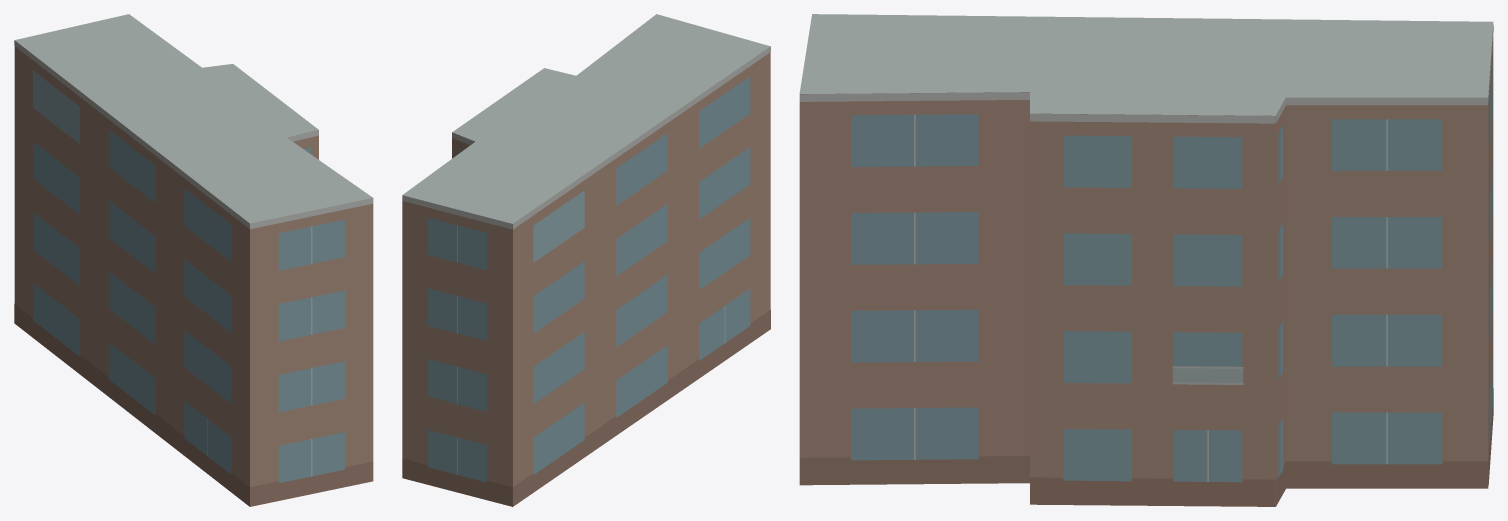
Rendered from survey-upis-33011934.glb.
The picture shows the model from 3 angles, left to right: view 1: azimuth 30°, elevation 25°; view 2: azimuth 150°, elevation 25°; view 3: azimuth 270°, elevation 25°; orthographic projection. The views are drawn at different scales.
Parts seen in each view (by area): view 1: survey-upis-33011934.tmp; view 2: survey-upis-33011934.tmp; view 3: survey-upis-33011934.tmp.
Part boxes in pixels (x1=…): survey-upis-33011934.tmp: x1=14, y1=14, x2=373, y2=506; survey-upis-33011934.tmp: x1=402, y1=14, x2=770, y2=506; survey-upis-33011934.tmp: x1=799, y1=14, x2=1493, y2=506.
Size of the model in its own units: 6.84 by 12.2 by 19.63.
